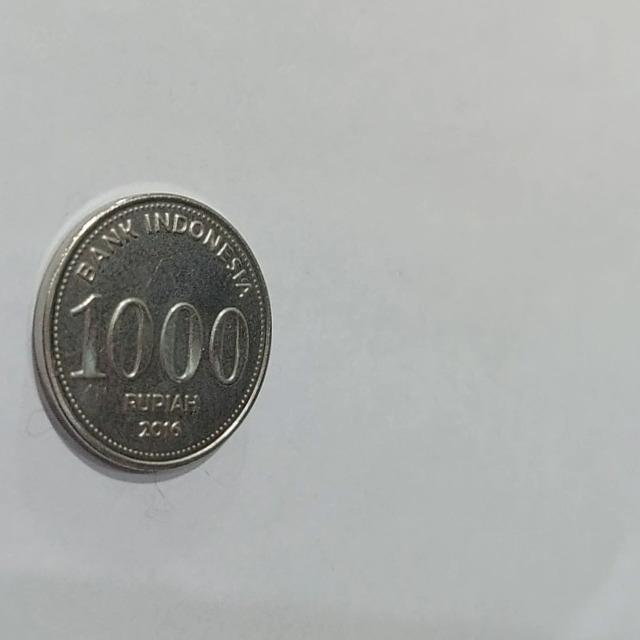Rp100: (30, 188, 274, 480)
